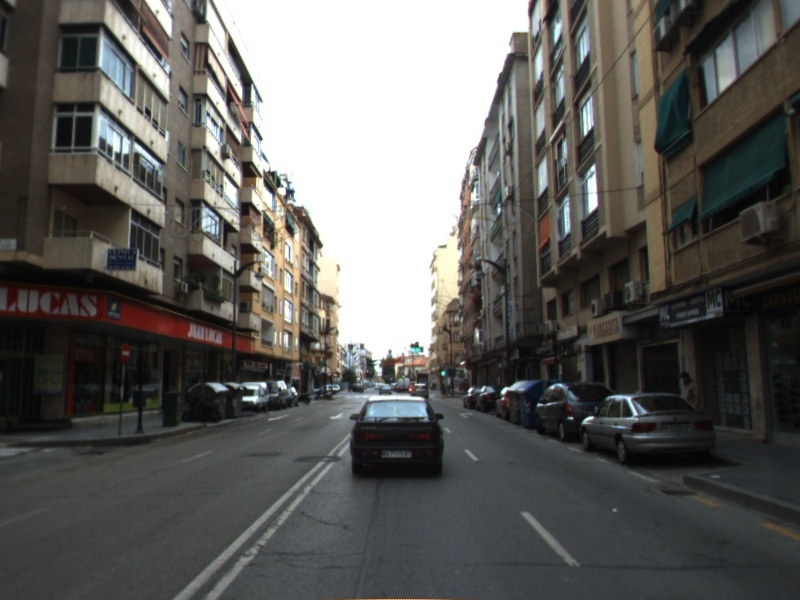RIGHT: (457, 410, 475, 420)
